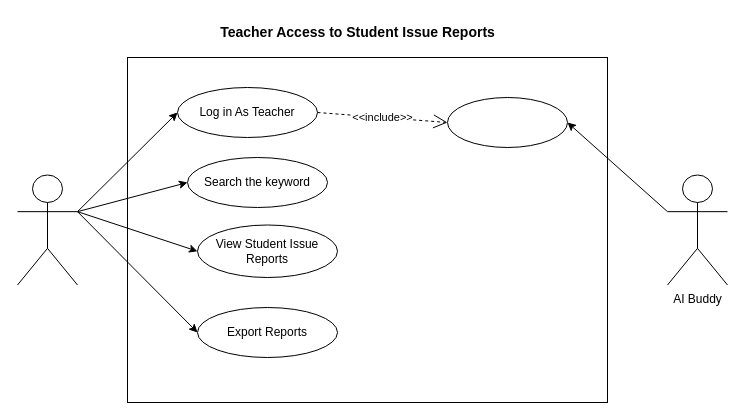
The diagram is 745 pixels wide and 420 high, and some of its shapes have lost their labels. Here are the shapes that lost their labels. From the top down, the box of each, then its label:
(446, 96, 568, 148): Authenticate User
(16, 174, 78, 285): Teacher
